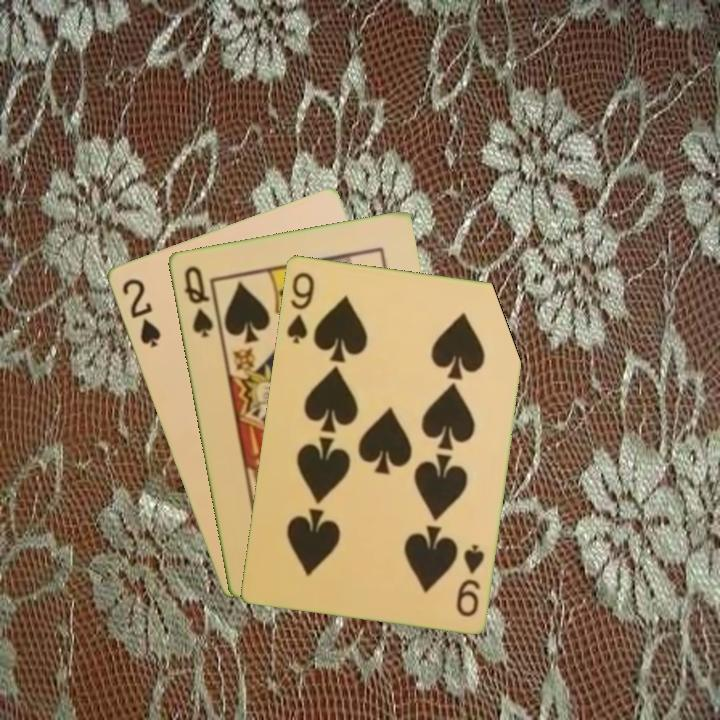2s: (118, 274, 164, 350)
9s: (452, 540, 487, 619), (282, 268, 317, 346)
Qs: (180, 262, 216, 340)
